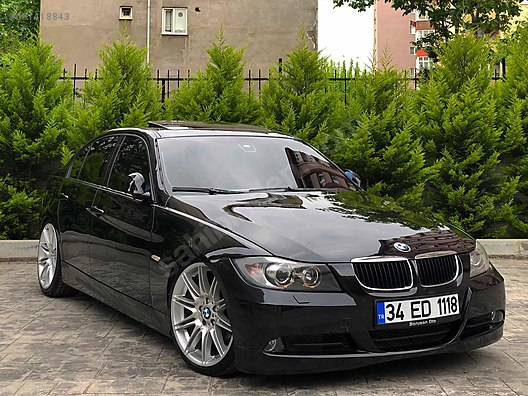bmw: (33, 118, 508, 382)
